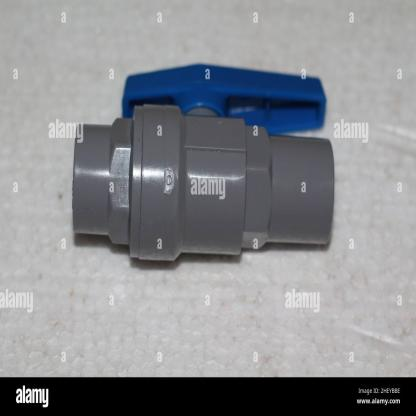PVC: (72, 105, 335, 261)
